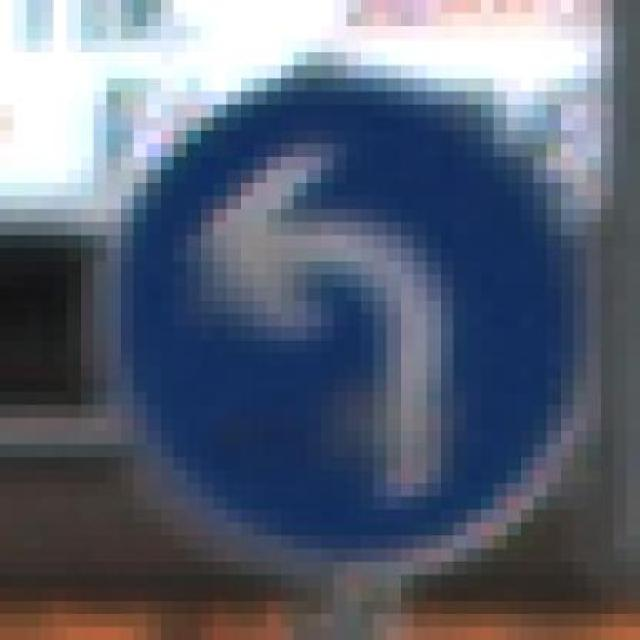Turn left ahead: (93, 52, 601, 588)
